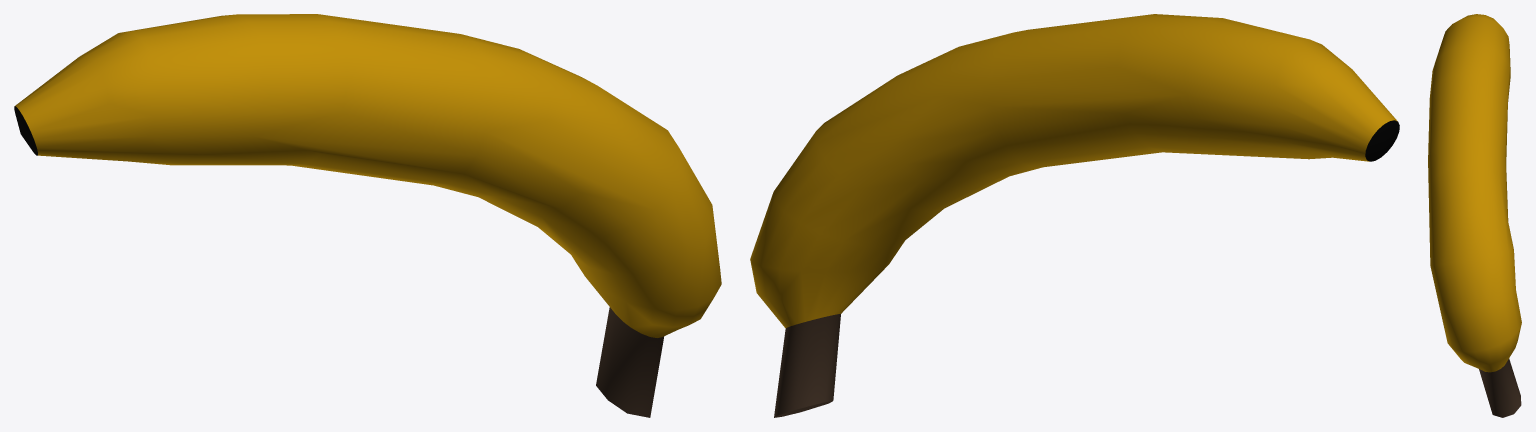
The model's file is Banana.FBX.
3 renders of one model, left to right at view 1: azimuth 30°, elevation 25°; view 2: azimuth 150°, elevation 25°; view 3: azimuth 270°, elevation 25°, orthographic. The views are drawn at different scales.
Visible parts, largest first — view 1: Left Banana; view 2: Left Banana; view 3: Left Banana.
Part boxes in pixels (<box>): Left Banana: <box>14,14,721,417</box>; Left Banana: <box>750,14,1399,417</box>; Left Banana: <box>1428,14,1521,417</box>.
Size of the model in its own units: 3.38 by 2.43 by 0.7771.
